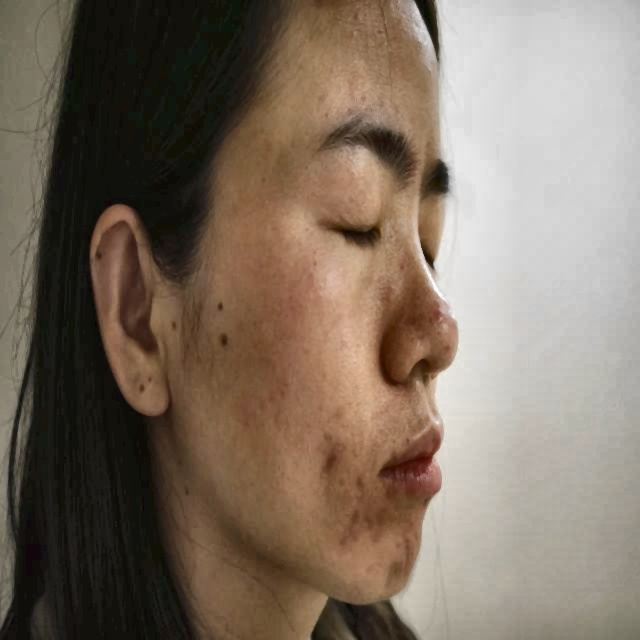comedone: (322, 443, 340, 480)
